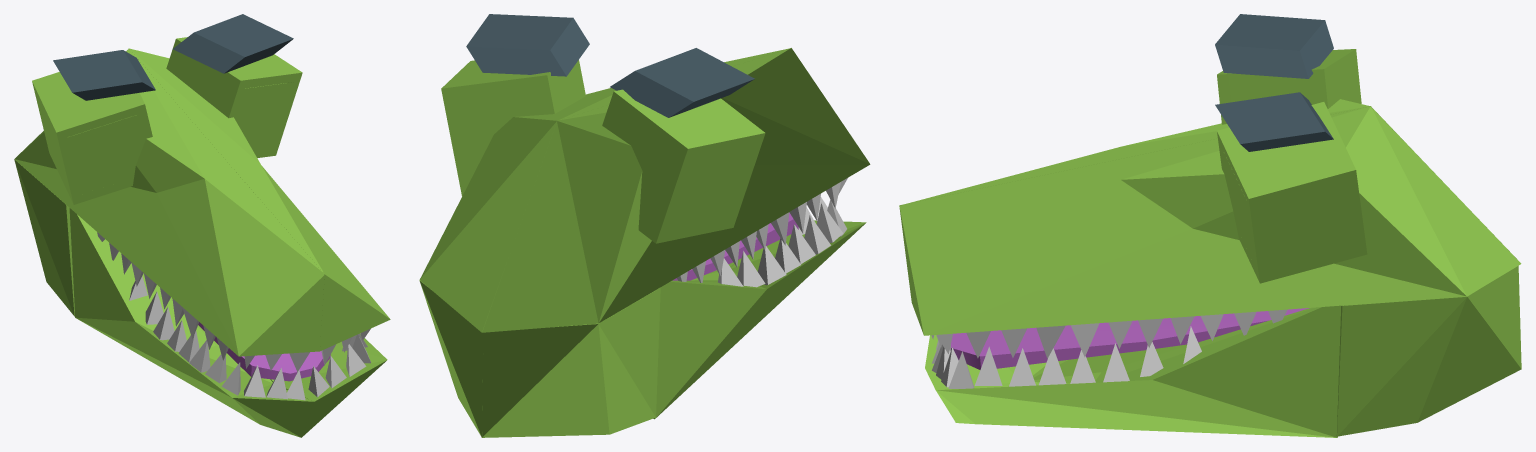
The model's file is trex_head.fbx.
3 renders of one model, left to right at view 1: azimuth 30°, elevation 25°; view 2: azimuth 150°, elevation 25°; view 3: azimuth 270°, elevation 25°, orthographic. The views are drawn at different scales.
Visible parts, largest first — view 1: mouth_top, mouth_bottom, eye_R, eye_L, mouth_back, eyebrow_L, eyebrow_R, lid-3_R, lid-3_L, lid-2_R; view 2: mouth_top, mouth_back, mouth_bottom, eye_R, eye_L, eyebrow_L, eyebrow_R; view 3: mouth_top, mouth_bottom, mouth_back, eye_L, eyebrow_R, eyebrow_L, eye_R, lid-3_L.
Boxes of the visible parts, x1=… form: mouth_top: x1=14, y1=48, x2=390, y2=371; mouth_bottom: x1=69, y1=208, x2=387, y2=437; eye_R: x1=32, y1=72, x2=152, y2=204; eye_L: x1=166, y1=37, x2=302, y2=157; mouth_back: x1=14, y1=159, x2=74, y2=316; eyebrow_L: x1=173, y1=14, x2=293, y2=73; eyebrow_R: x1=53, y1=50, x2=155, y2=100; lid-3_R: x1=68, y1=115, x2=144, y2=194; lid-3_L: x1=234, y1=82, x2=292, y2=150; lid-2_R: x1=67, y1=114, x2=142, y2=157; mouth_top: x1=419, y1=48, x2=870, y2=332; mouth_back: x1=419, y1=280, x2=660, y2=437; mouth_bottom: x1=653, y1=197, x2=866, y2=419; eye_R: x1=602, y1=89, x2=765, y2=243; eye_L: x1=441, y1=60, x2=585, y2=195; eyebrow_L: x1=466, y1=14, x2=589, y2=76; eyebrow_R: x1=610, y1=48, x2=754, y2=117; mouth_top: x1=899, y1=99, x2=1521, y2=358; mouth_bottom: x1=925, y1=305, x2=1340, y2=437; mouth_back: x1=1336, y1=266, x2=1521, y2=436; eye_L: x1=1217, y1=102, x2=1367, y2=283; eyebrow_R: x1=1215, y1=14, x2=1333, y2=78; eyebrow_L: x1=1215, y1=92, x2=1333, y2=151; eye_R: x1=1217, y1=49, x2=1361, y2=124; lid-3_L: x1=1221, y1=148, x2=1255, y2=266.
Bounding box in the file's own units: 18.9 × 21.42 × 34.37.
